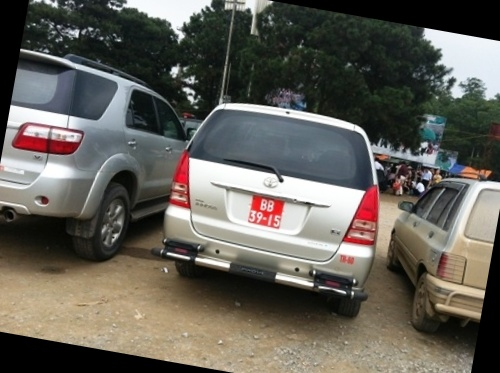plate: (248, 194, 285, 230)
